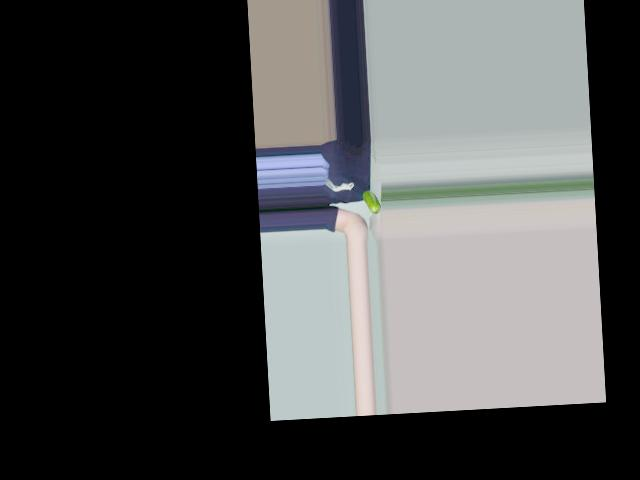cucumber: (362, 190, 381, 214)
